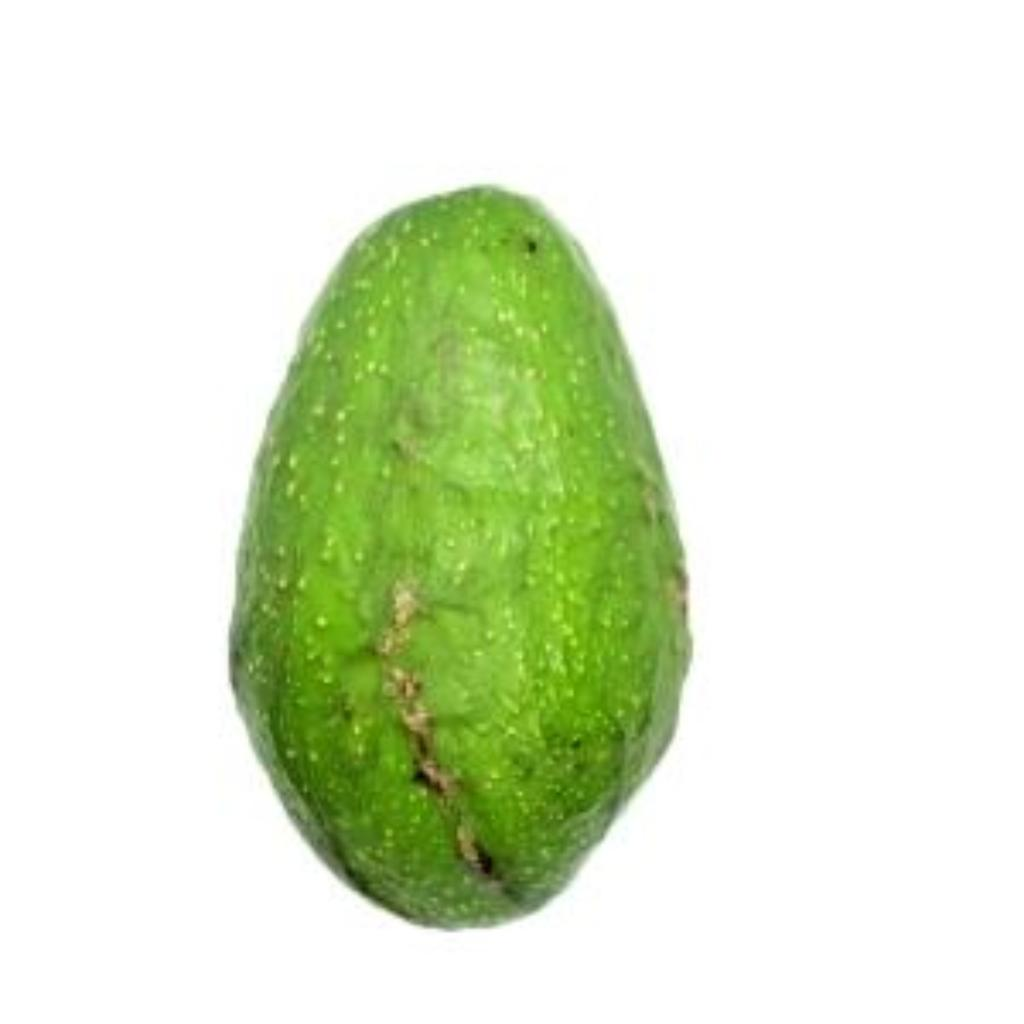cercospora_spot: (214, 162, 712, 958)
